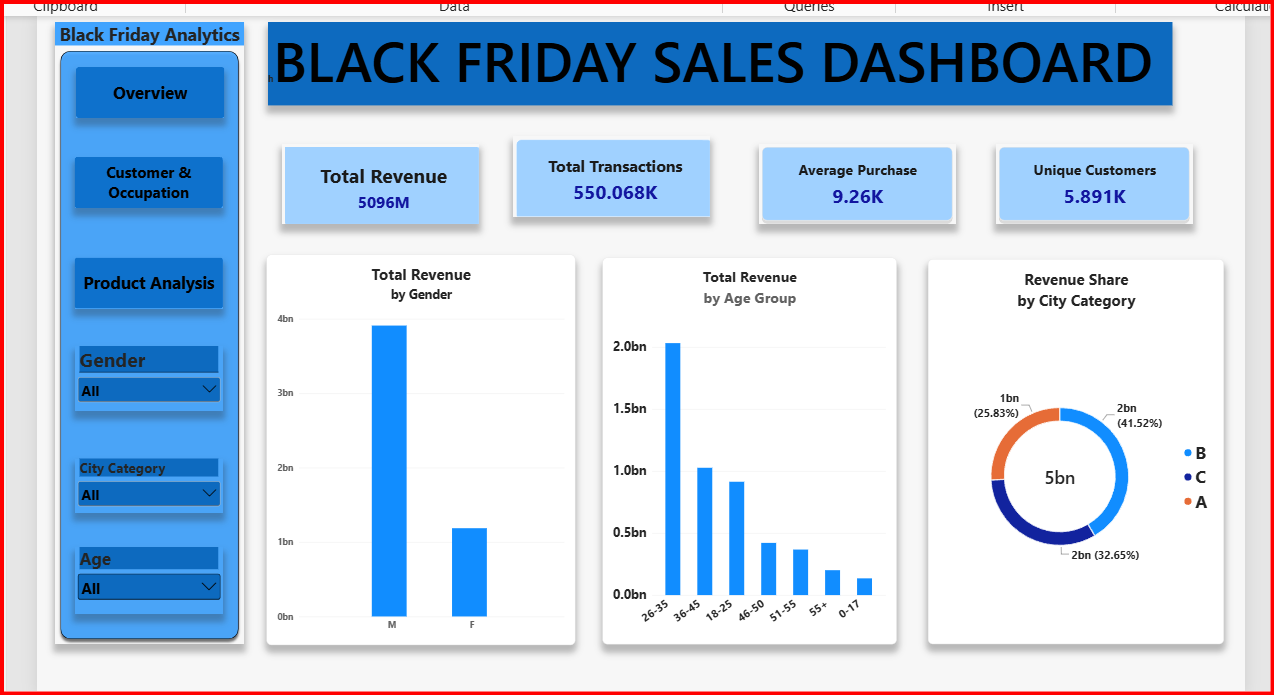

The dashboard page shown, as its layout file describes it:
{"tool":"powerbi","page":{"name":"overview","canvas":[1920,1080],"ordinal":0},"visuals":[{"type":"shape","title":"Black Friday Analytics","box":[28.9,8.7,300.6,990.2],"z":0,"group":"g2"},{"type":"group","id":"g1","title":"Group 1","box":[390,190.7,1450.1,141.5],"z":0},{"type":"cardVisual","fields":{"Data":["Sum(Black_friday_sales_dataset.Purchase)"]},"box":[390,202.1,314.9,128.8],"z":0,"group":"g1"},{"type":"actionButton","box":[62,81.4,236.2,81.1],"z":1000,"group":"g2"},{"type":"cardVisual","fields":{"Data":["CountNonNull(Black_friday_sales_dataset.User_ID)"]},"box":[757.3,190.7,314.9,128.8],"z":1000,"group":"g1"},{"type":"clusteredColumnChart","title":"Total Revenue","fields":{"Category":["Black_friday_sales_dataset.Gender"],"Y":["Sum(Black_friday_sales_dataset.Purchase)"]},"box":[364,378.4,491.1,621.1],"z":1000},{"type":"cardVisual","fields":{"Data":["Avg(Black_friday_sales_dataset.Purchase)"]},"box":[1149,202.1,314.9,128.8],"z":2000,"group":"g1"},{"type":"actionButton","box":[60.7,384.2,236.2,81.1],"z":2000,"group":"g2"},{"type":"clusteredColumnChart","title":"Total Revenue","fields":{"Category":["Black_friday_sales_dataset.Age"],"Y":["Sum(Black_friday_sales_dataset.Purchase)"]},"box":[898.4,384.2,468,615.3],"z":2000},{"type":"cardVisual","fields":{"Data":["Count(Black_friday_sales_dataset.User_ID)"]},"box":[1525.8,202.1,314.9,128.8],"z":3000,"group":"g1"},{"type":"actionButton","box":[60.7,222.5,236.2,81.1],"z":3000,"group":"g2"},{"type":"donutChart","title":"Revenue Share","fields":{"Category":["Black_friday_sales_dataset.City_Category"],"Y":["Sum(Black_friday_sales_dataset.Purchase)"]},"box":[1418.4,387.1,470.9,612.4],"z":3000},{"type":"group","id":"g2","title":"Group 2","box":[28.9,8.7,300.6,990.2],"z":4000},{"type":"slicer","fields":{"Values":["Black_friday_sales_dataset.Gender"]},"box":[60.7,522.9,236.9,104],"z":4000,"group":"g2"},{"type":"textbox","box":[366.9,8.7,1438.6,132.9],"z":5000},{"type":"slicer","fields":{"Values":["Black_friday_sales_dataset.City_Category"]},"box":[60.7,702,236.9,86.7],"z":5000,"group":"g2"},{"type":"slicer","fields":{"Values":["Black_friday_sales_dataset.Age"]},"box":[60.7,843.5,236.9,106.9],"z":6000,"group":"g2"}]}

Visuals, with their boxes on the page's 1920x1080 design canvas (x1, y1, x2, y2). These are canvas units, not pixel positions in the 1274x695 screenshot, which may show the page scaled, cropped or inside an application window:
"Black Friday Analytics" shape: <box>29,9,330,999</box>
"Group 1" group: <box>390,191,1840,332</box>
cardVisual - Sum(Black_friday_sales_dataset.Purchase): <box>390,202,705,331</box>
actionButton: <box>62,81,298,162</box>
cardVisual - CountNonNull(Black_friday_sales_dataset.User_ID): <box>757,191,1072,320</box>
"Total Revenue" clusteredColumnChart: <box>364,378,855,1000</box>
cardVisual - Avg(Black_friday_sales_dataset.Purchase): <box>1149,202,1464,331</box>
actionButton: <box>61,384,297,465</box>
"Total Revenue" clusteredColumnChart: <box>898,384,1366,1000</box>
cardVisual - Count(Black_friday_sales_dataset.User_ID): <box>1526,202,1841,331</box>
actionButton: <box>61,222,297,304</box>
"Revenue Share" donutChart: <box>1418,387,1889,1000</box>
"Group 2" group: <box>29,9,330,999</box>
slicer - Black_friday_sales_dataset.Gender: <box>61,523,298,627</box>
textbox: <box>367,9,1806,142</box>
slicer - Black_friday_sales_dataset.City_Category: <box>61,702,298,789</box>
slicer - Black_friday_sales_dataset.Age: <box>61,844,298,950</box>
